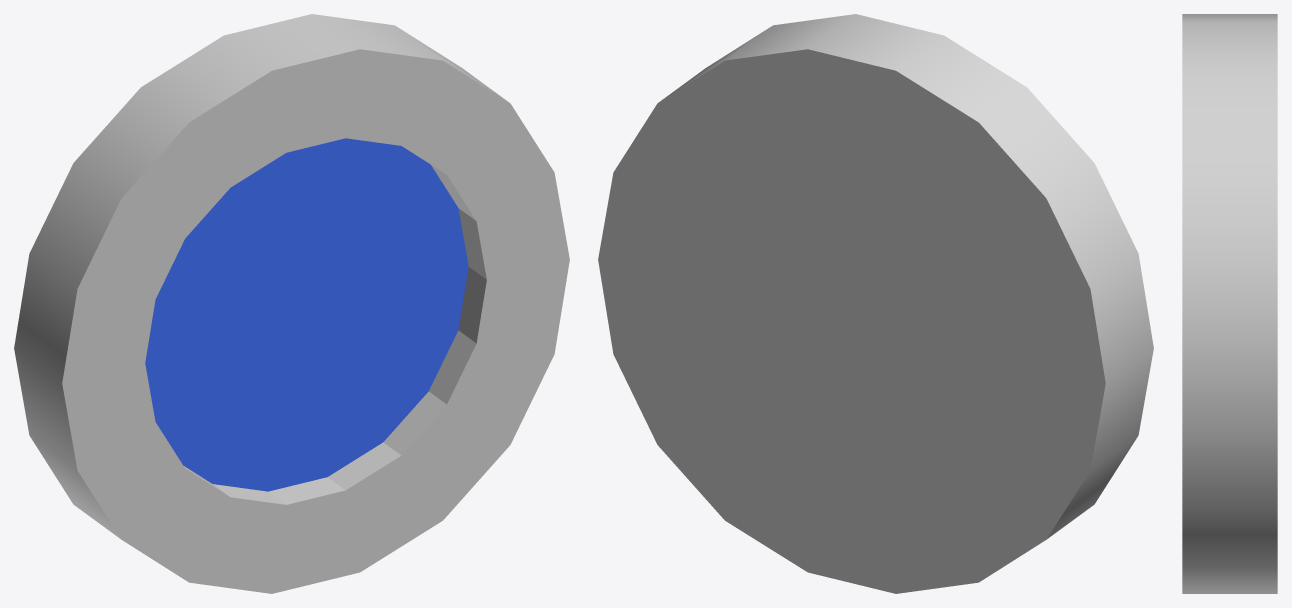
Rendered from player_eye.FBX.
3 views of the same model, side by side, from view 1: azimuth 30°, elevation 25°; view 2: azimuth 150°, elevation 25°; view 3: azimuth 270°, elevation 25° (orthographic).
Parts seen in each view (by area): view 1: Cylinder002; view 2: Cylinder002; view 3: Cylinder002.
Part boxes in pixels (bbox=[...]): Cylinder002: bbox=[14, 14, 569, 593]; Cylinder002: bbox=[598, 14, 1153, 593]; Cylinder002: bbox=[1182, 14, 1277, 593].
Size of the model in its own units: 36.76 by 36.21 by 6.04.
